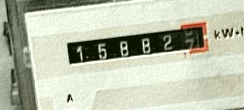1: (74, 43, 86, 62)
2: (162, 32, 174, 51)
5: (96, 42, 109, 60)
7: (184, 37, 196, 49)
8: (117, 38, 131, 57), (140, 35, 153, 54)
screen: (58, 17, 216, 73)
